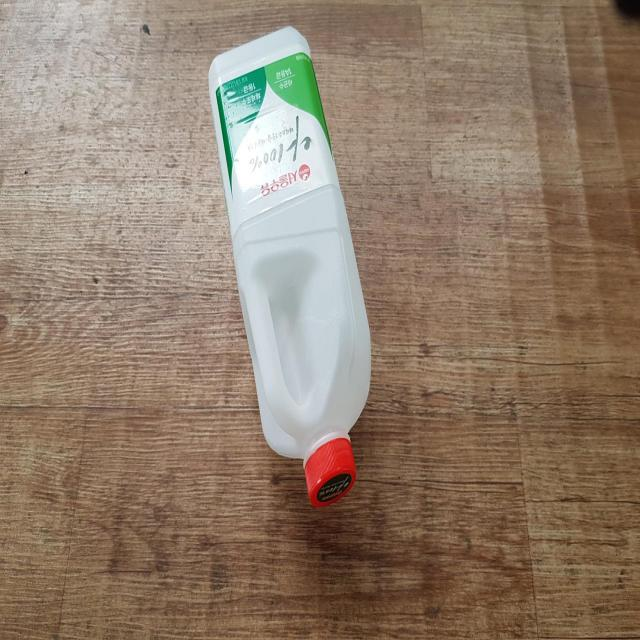plastic: (208, 25, 371, 507)
